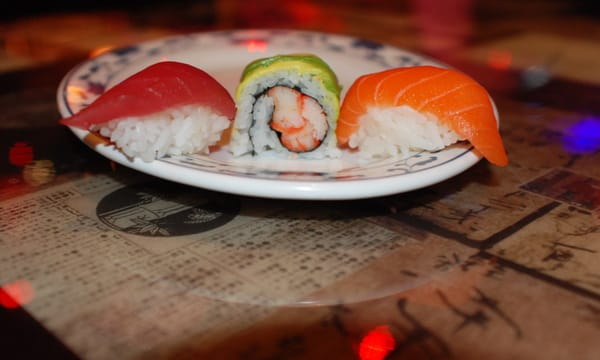soup: (334, 67, 509, 167)
